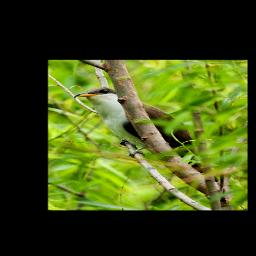Cuckoo: (69, 86, 229, 183)
